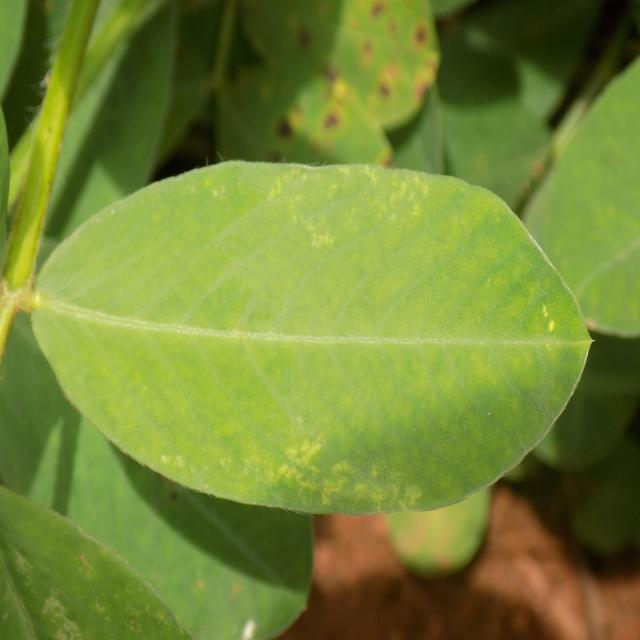Ground nut_healthy: (40, 159, 593, 518)
